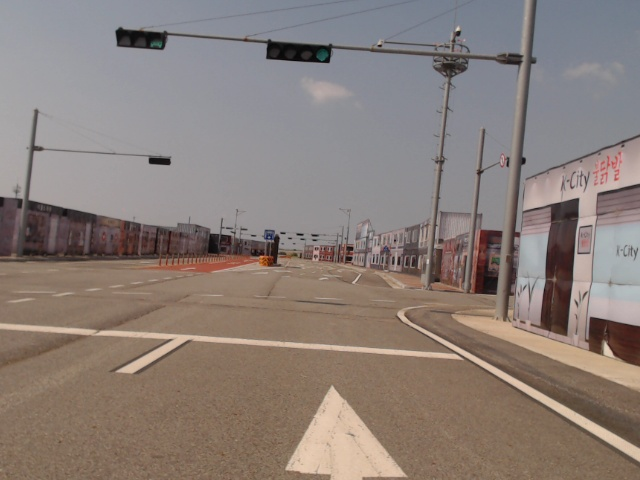straight_green_4: (266, 41, 332, 64)
